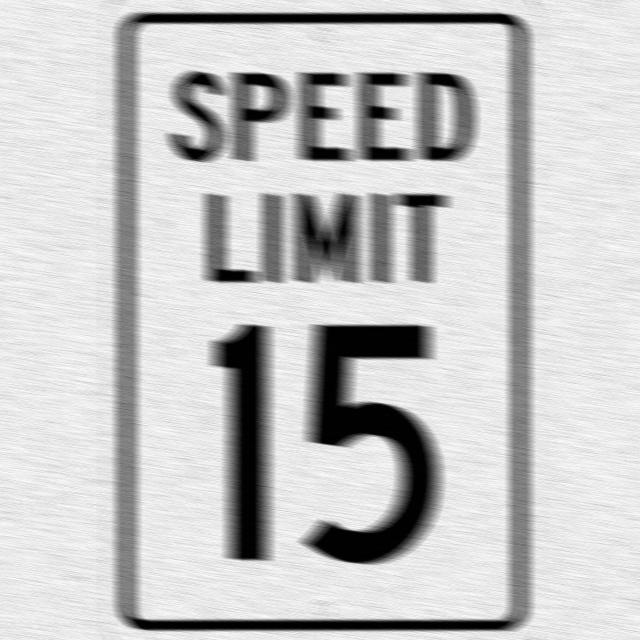speedLimit15: (101, 13, 540, 632)
